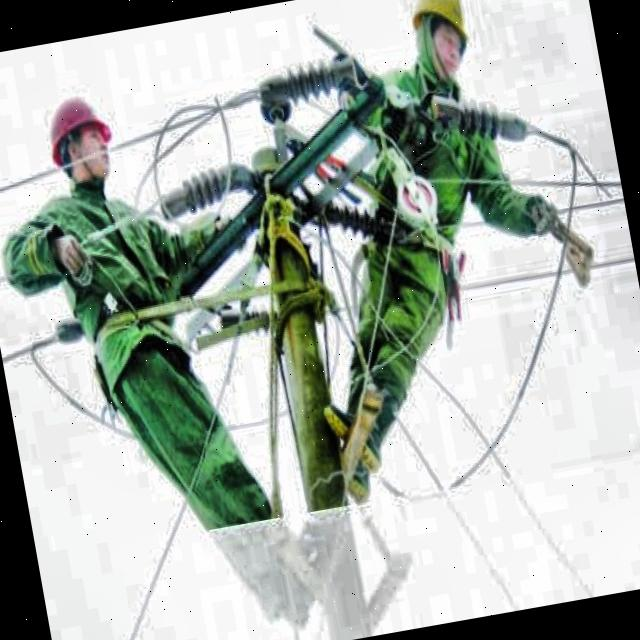helmet: (36, 82, 126, 199), (401, 0, 481, 90)
